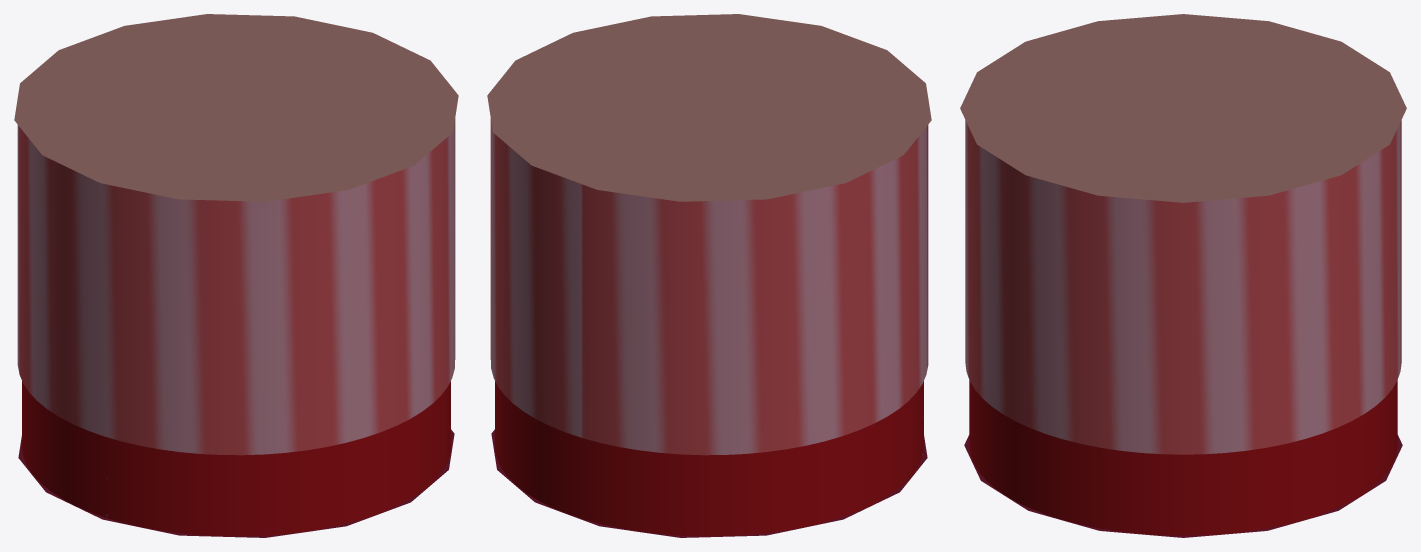
File: Queen_Stage.fbx
3 renders of one model, left to right at view 1: azimuth 30°, elevation 25°; view 2: azimuth 150°, elevation 25°; view 3: azimuth 270°, elevation 25°, orthographic.
Visible parts, largest first — view 1: Wall2, Top, Wall1, Base; view 2: Wall2, Top, Wall1, Base; view 3: Wall2, Top, Wall1, Base.
Boxes of the visible parts, x1,y1,x2,y2 form: Wall2: (17,118,455,455); Top: (14,14,458,201); Wall1: (22,381,450,536); Base: (18,429,454,537); Wall2: (490,118,928,455); Top: (487,14,931,201); Wall1: (495,381,923,536); Base: (491,429,927,537); Wall2: (965,120,1401,454); Top: (960,14,1406,202); Wall1: (969,380,1397,535); Base: (964,435,1402,537).
Size of the model in its own units: 5233 by 4368 by 5233.
Materials: 1 (1 with a texture image).
